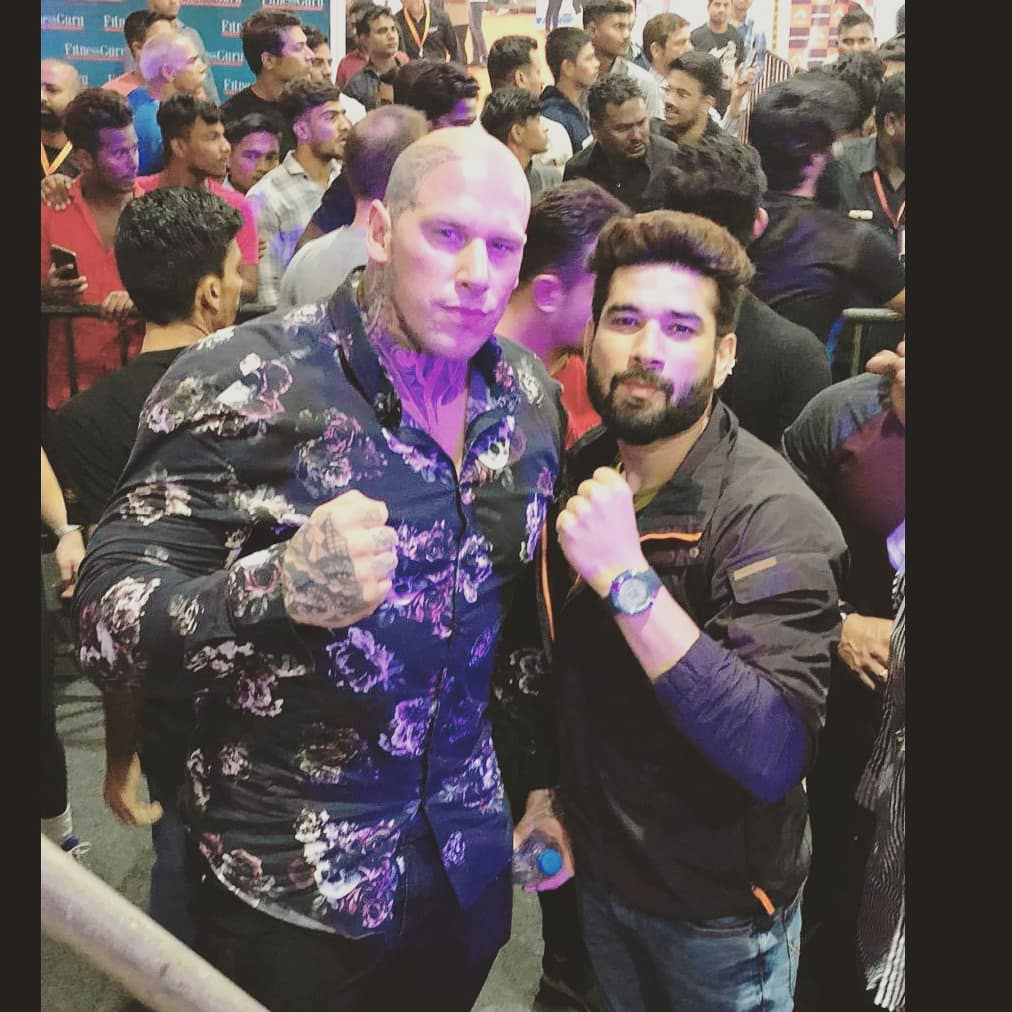hand: (245, 491, 402, 599)
